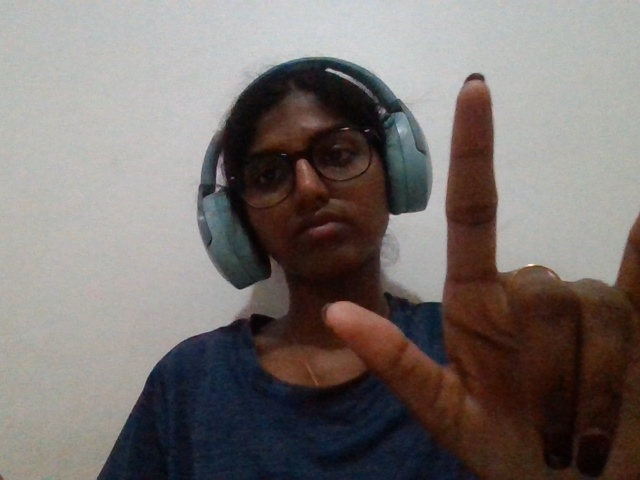I Love You: (288, 50, 640, 478)
